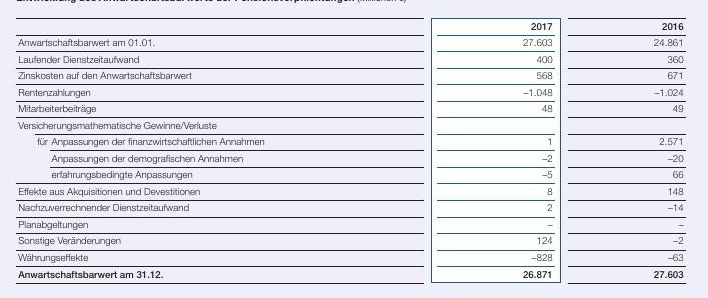table: (0, 0, 708, 298)
